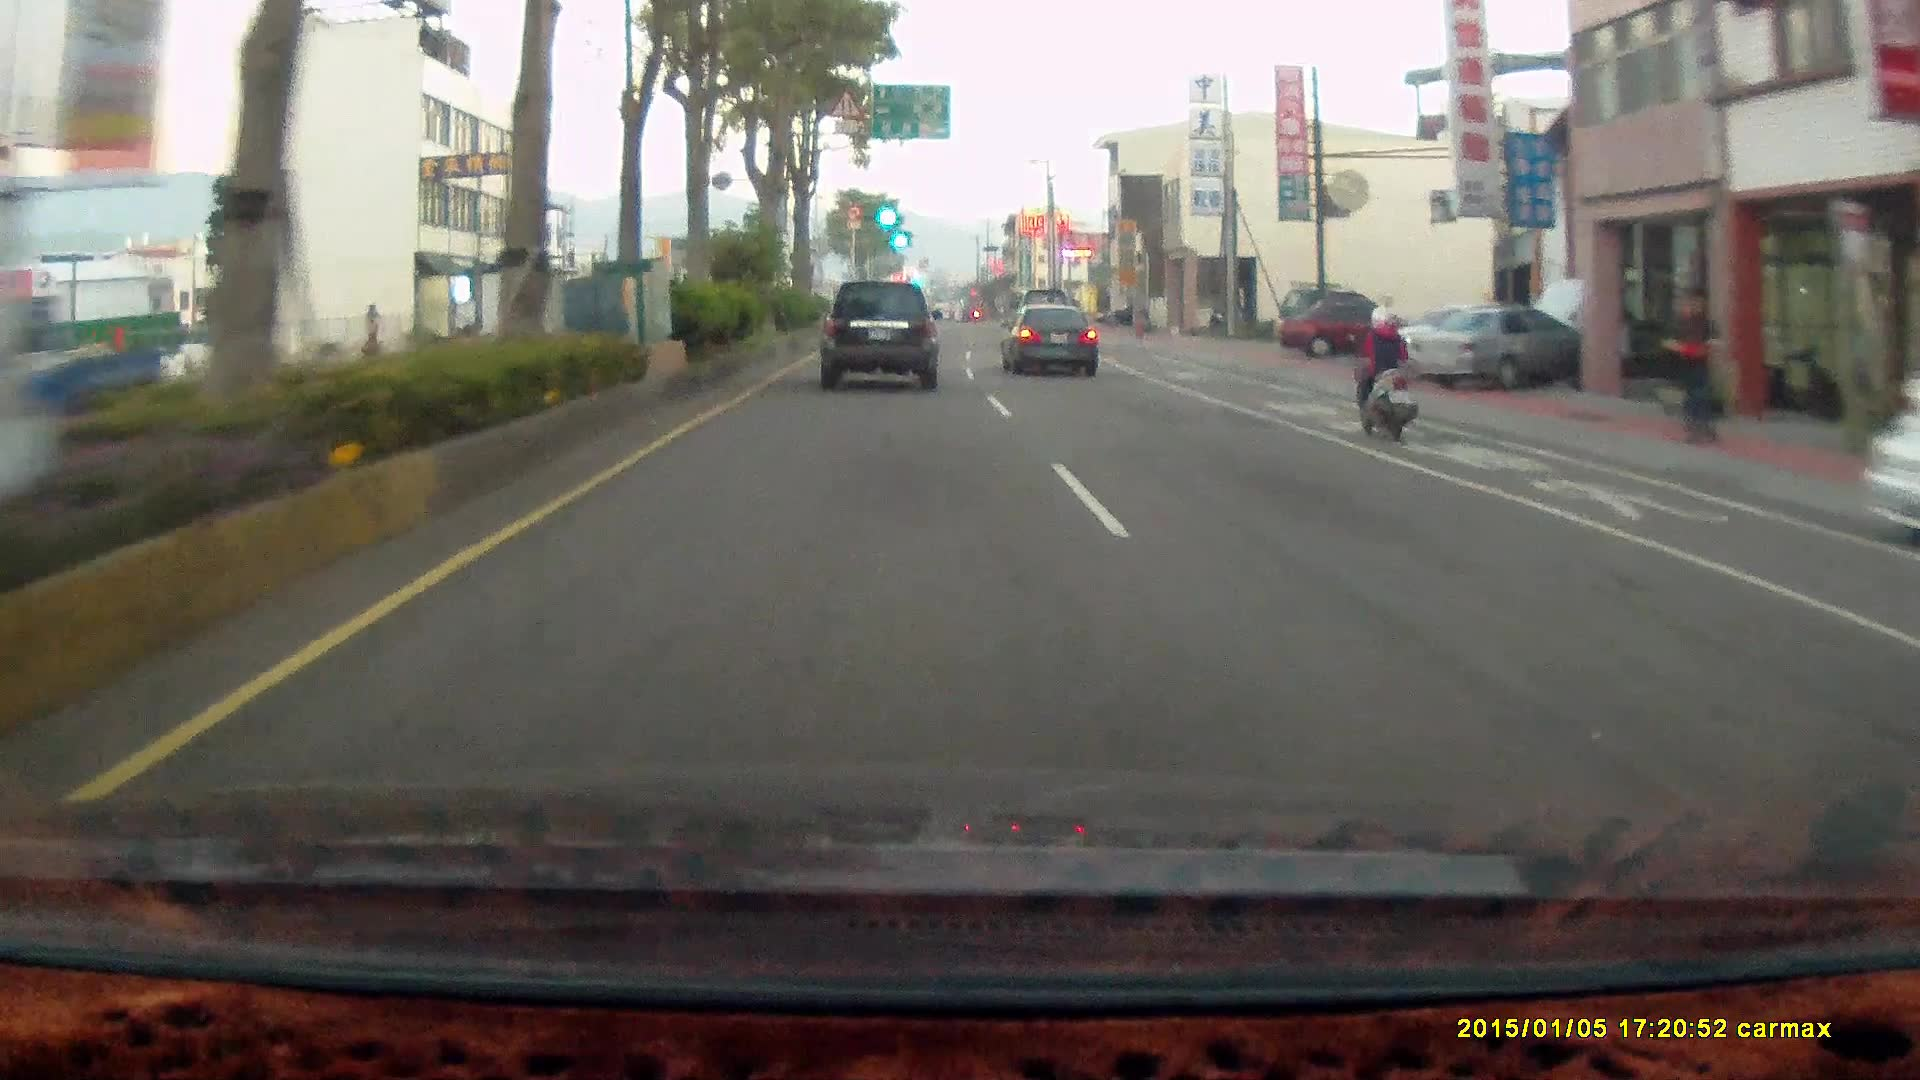pedestrian: (1664, 281, 1738, 450)
rider: (1338, 292, 1429, 450), (1348, 301, 1418, 436)
vehicle: (1, 304, 180, 448), (1415, 304, 1588, 394), (819, 282, 944, 393), (819, 279, 943, 389), (1861, 332, 1920, 546), (1278, 297, 1412, 362), (1278, 297, 1413, 357), (1861, 410, 1920, 546), (1004, 305, 1104, 380), (1000, 303, 1099, 375)
